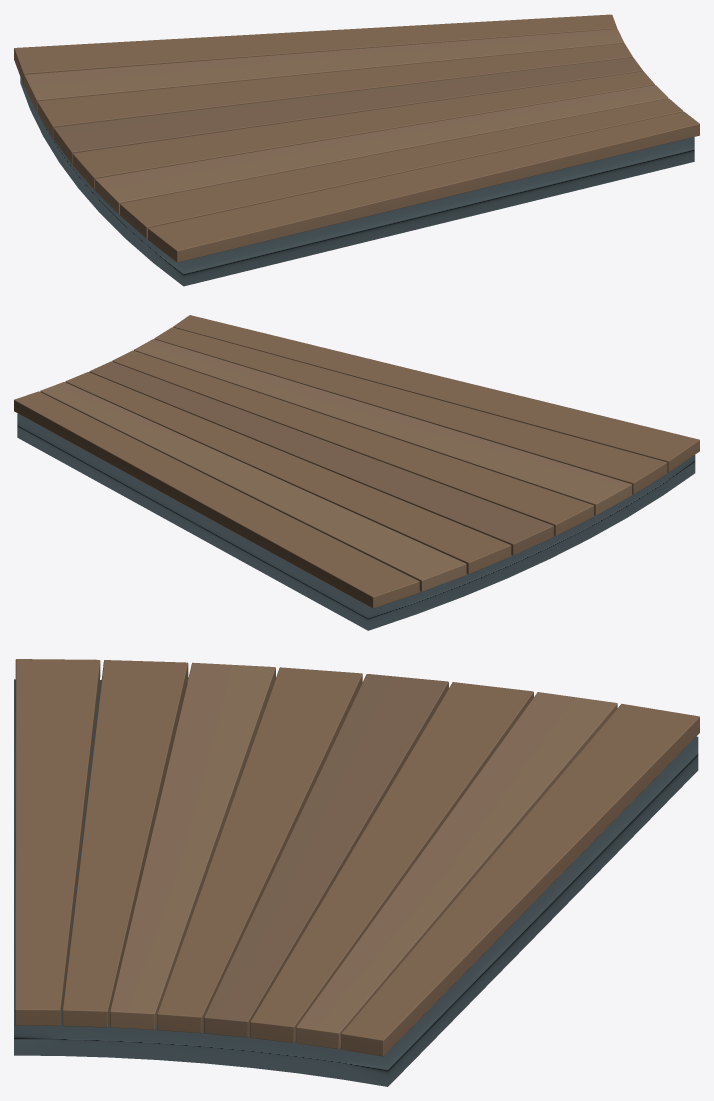
The model's file is city_boardwalk_02_22p5.glb.
The picture shows the model from 3 angles, top to bottom: view 1: azimuth 30°, elevation 25°; view 2: azimuth 150°, elevation 25°; view 3: azimuth 270°, elevation 25°; orthographic projection. The views are drawn at different scales.
Visible parts, largest first — view 1: CityBoardwalk02_22p5_Mesh; view 2: CityBoardwalk02_22p5_Mesh; view 3: CityBoardwalk02_22p5_Mesh.
Boxes of the visible parts, left/top/right/bottom form: CityBoardwalk02_22p5_Mesh: left=14, top=14, right=699, bottom=286; CityBoardwalk02_22p5_Mesh: left=14, top=315, right=699, bottom=630; CityBoardwalk02_22p5_Mesh: left=14, top=659, right=699, bottom=1086.
Size of the model in its own units: 3.92 by 0.24 by 2.98.
